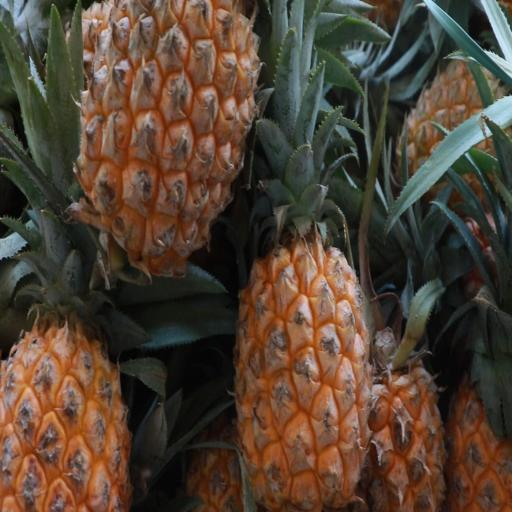Pineapple - v8 v1: (75, 0, 263, 281), (232, 151, 375, 512), (0, 302, 137, 511), (443, 187, 512, 512), (357, 313, 449, 512)
